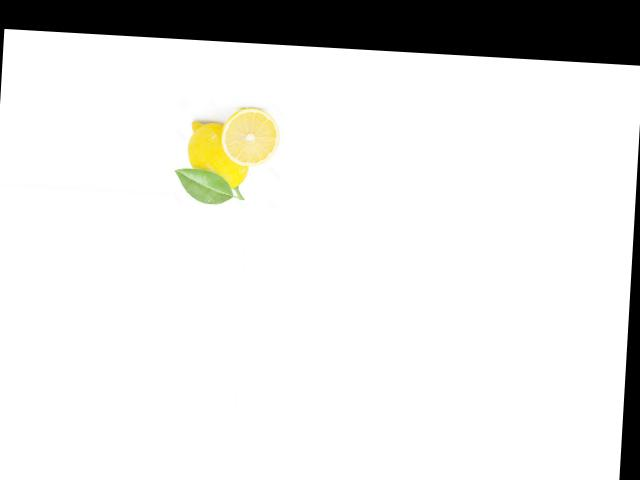lemon: (181, 116, 255, 200)
